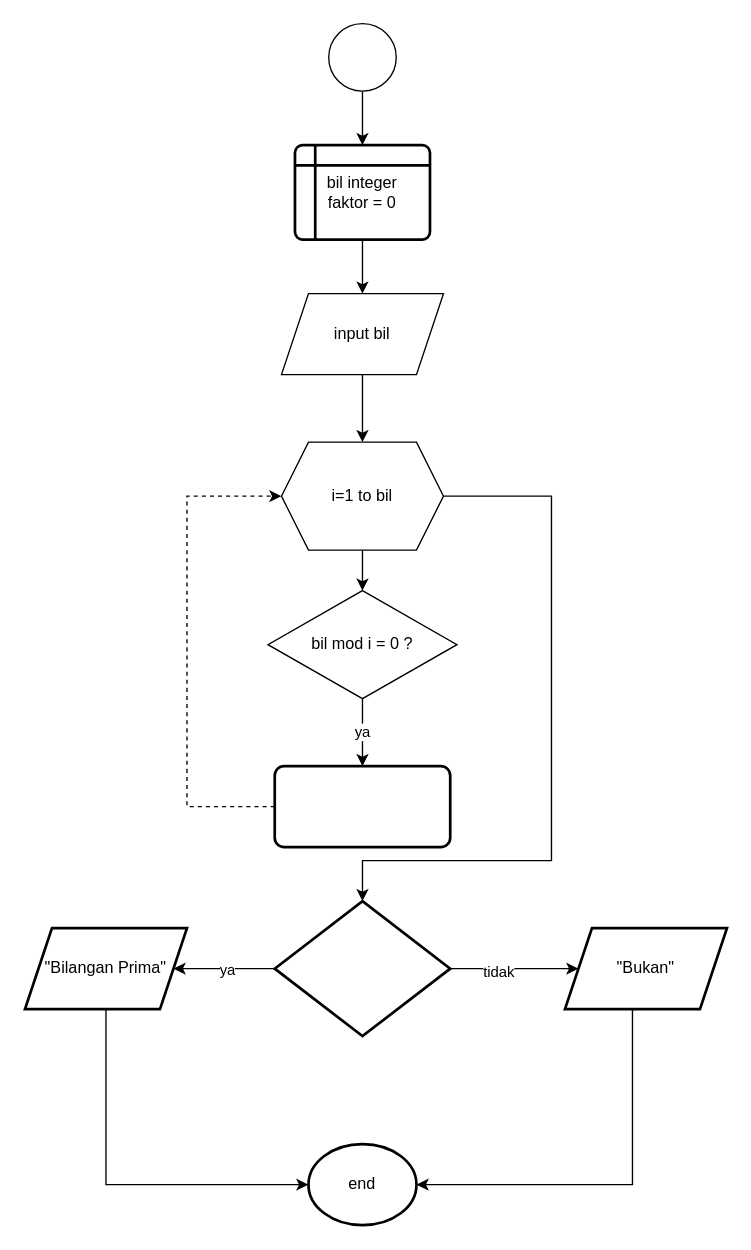
Image size: 751x1250. Some labels were removed from this diagram. The shapes that lost their labels are listed below. From the top down, each one's centre as x and y in pixels, then its label:
At point (361, 56): "start".
At point (362, 806): "faktor = faktor +1".
At point (362, 968): "faktor = 2?".
